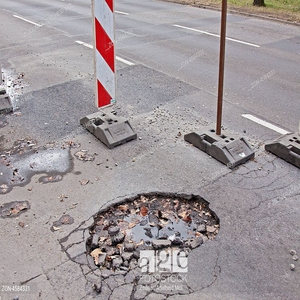pothole: (84, 190, 223, 276)
